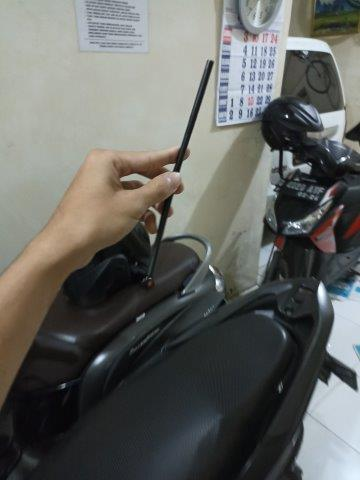sedotan: (147, 60, 214, 271)
